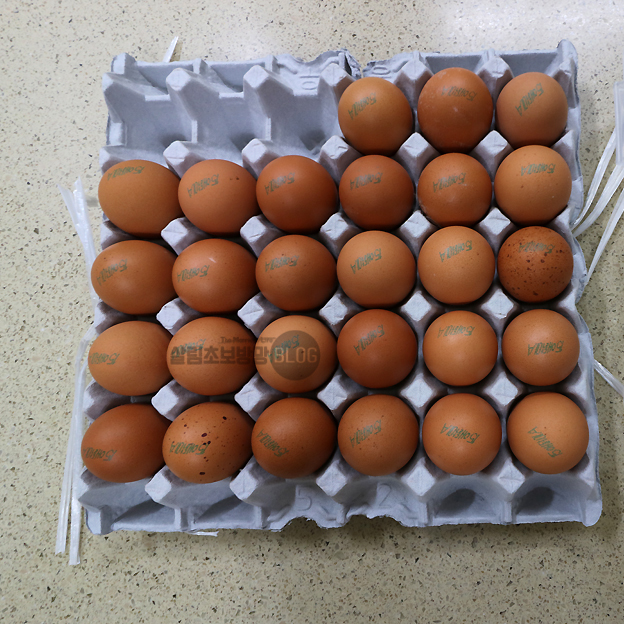egg: (81, 66, 594, 485)
